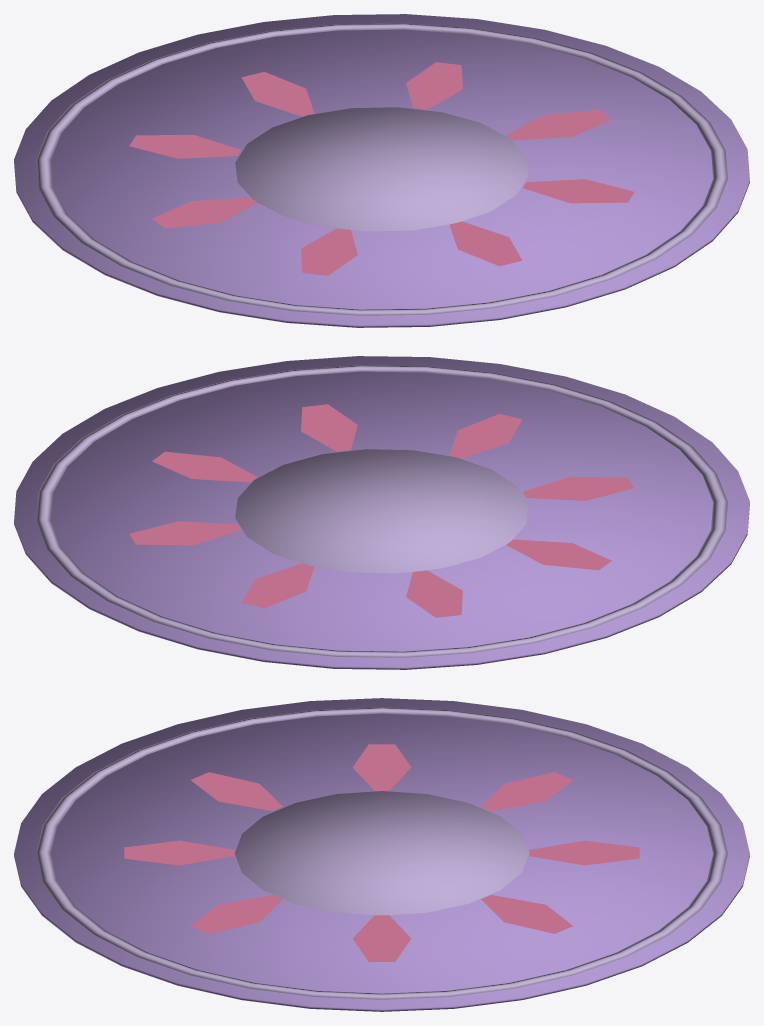
File: rug_round.glb
3 views of the same model, one above another, from view 1: azimuth 30°, elevation 25°; view 2: azimuth 150°, elevation 25°; view 3: azimuth 270°, elevation 25° (orthographic).
Visible parts, largest first — view 1: rug_round; view 2: rug_round; view 3: rug_round.
Boxes of the visible parts, x1,y1,x2,y2 form: rug_round: [14, 14, 749, 327]; rug_round: [14, 356, 749, 669]; rug_round: [14, 698, 749, 1011].
Size of what is drawn, in the model's own units: 3 by 0.02 by 3.
